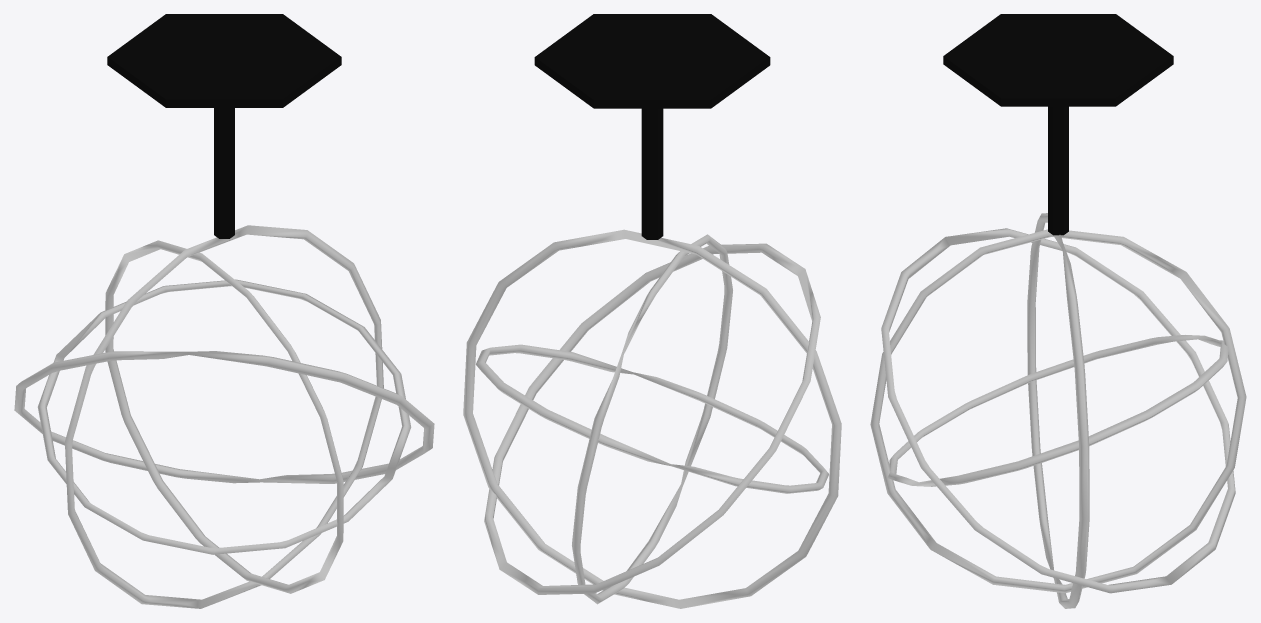
File: AtomicLight_On.glb
3 views of the same model, side by side, from view 1: azimuth 30°, elevation 25°; view 2: azimuth 150°, elevation 25°; view 3: azimuth 270°, elevation 25° (orthographic). The views are drawn at different scales.
Parts seen in each view (by area): view 1: atomicLight; view 2: atomicLight; view 3: atomicLight.
Part boxes in pixels (bbox=[...]): atomicLight: bbox=[14, 14, 434, 608]; atomicLight: bbox=[463, 14, 841, 608]; atomicLight: bbox=[870, 14, 1246, 608].
Bounding box in the file's own units: 0.8807 × 1.32 × 0.8377.
1 material, 1 textured.
